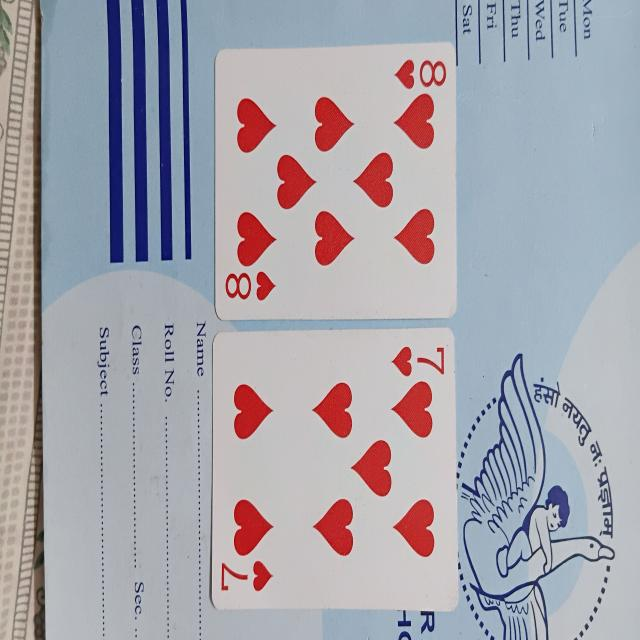7H: (212, 337, 458, 608)
8H: (214, 52, 456, 314)
